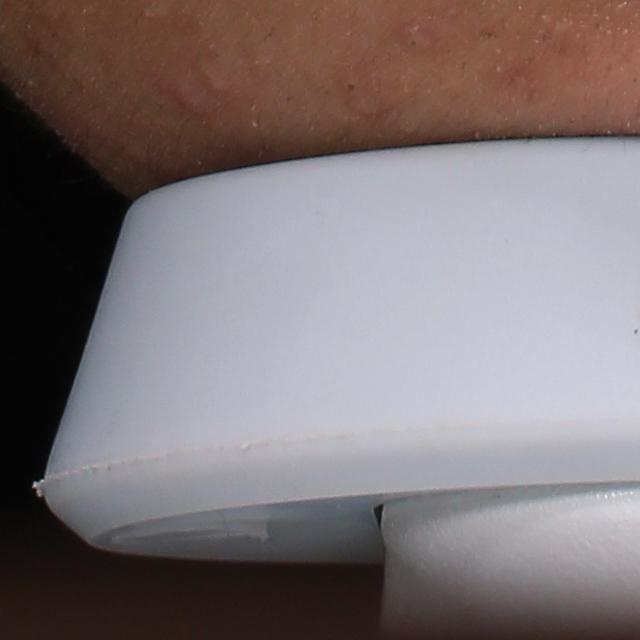comedo: (338, 73, 360, 96), (403, 34, 426, 53)
papule: (172, 85, 208, 112)
